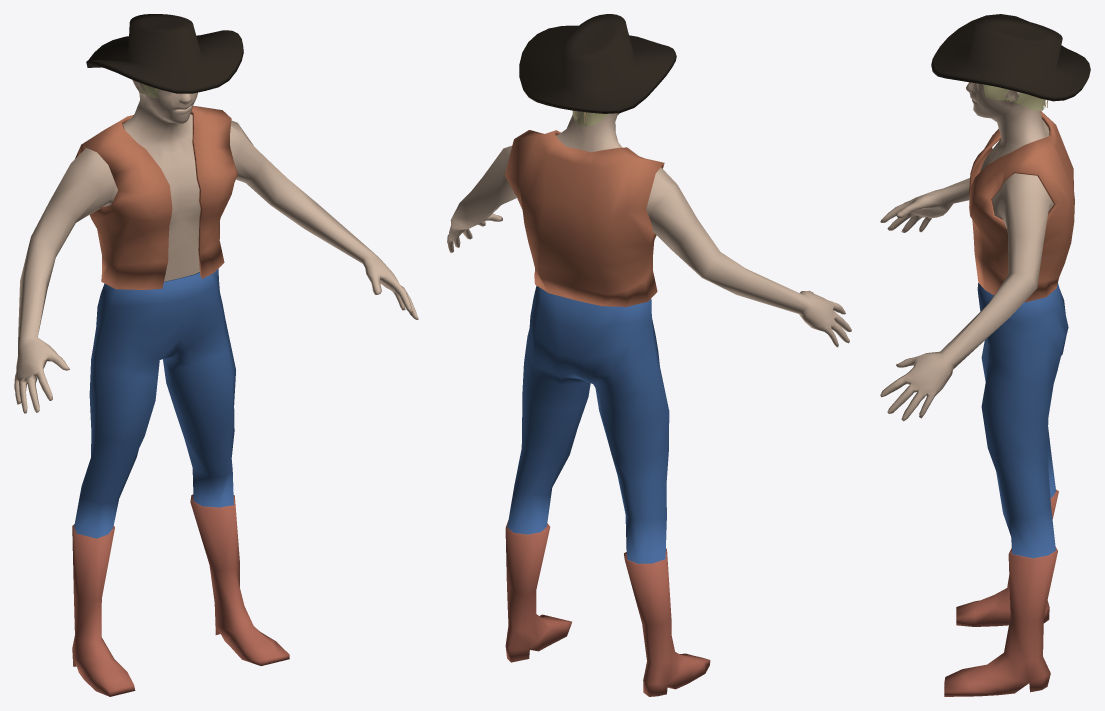
File: bushman_mesh.fbx
3 views of the same model, side by side, from view 1: azimuth 30°, elevation 25°; view 2: azimuth 150°, elevation 25°; view 3: azimuth 270°, elevation 25° (orthographic).
Visible parts, largest first — view 1: torso, vest, hat; view 2: torso, vest, hat; view 3: torso, vest, hat.
Part boxes in pixels (x1=…): torso: x1=14, y1=80, x2=418, y2=696; vest: x1=75, y1=106, x2=237, y2=289; hat: x1=86, y1=14, x2=243, y2=93; torso: x1=447, y1=110, x2=851, y2=696; vest: x1=504, y1=130, x2=664, y2=306; hat: x1=519, y1=14, x2=676, y2=113; torso: x1=880, y1=82, x2=1068, y2=696; vest: x1=969, y1=111, x2=1074, y2=302; hat: x1=931, y1=14, x2=1090, y2=101.
Size of the model in its own units: 283 by 439 by 133.
